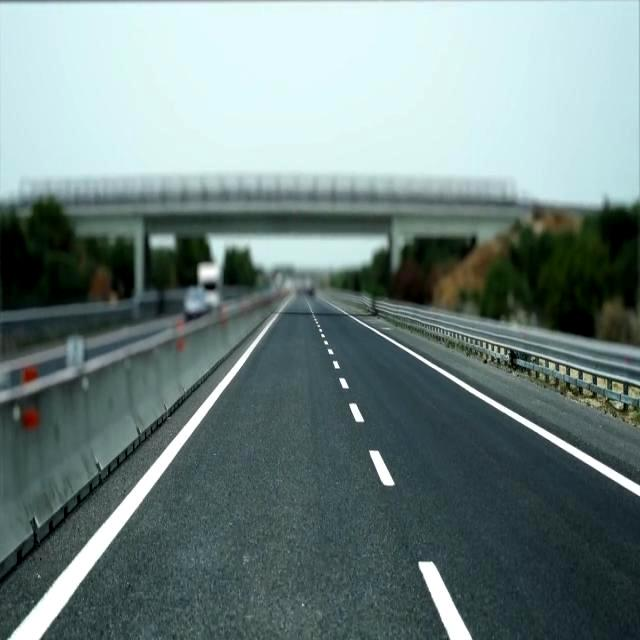lane: (8, 295, 292, 639), (329, 303, 640, 497), (419, 561, 472, 639), (371, 450, 394, 486), (349, 402, 364, 422), (339, 378, 349, 389)
road: (43, 296, 639, 639), (0, 343, 248, 639)
